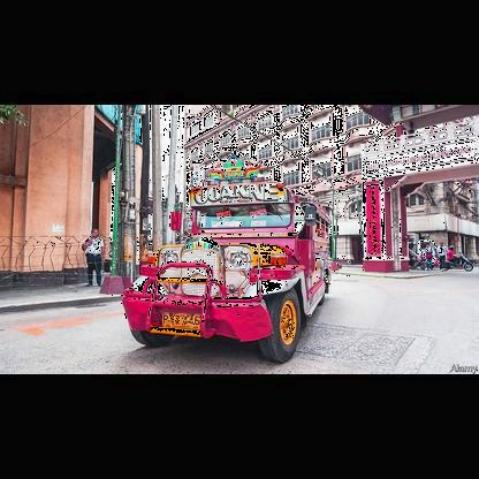jeepney: (103, 160, 347, 366)
